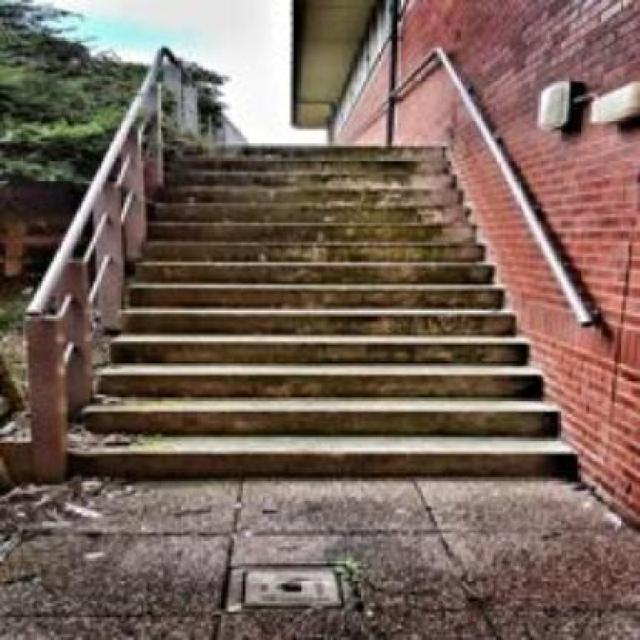stair: (66, 132, 580, 488)
